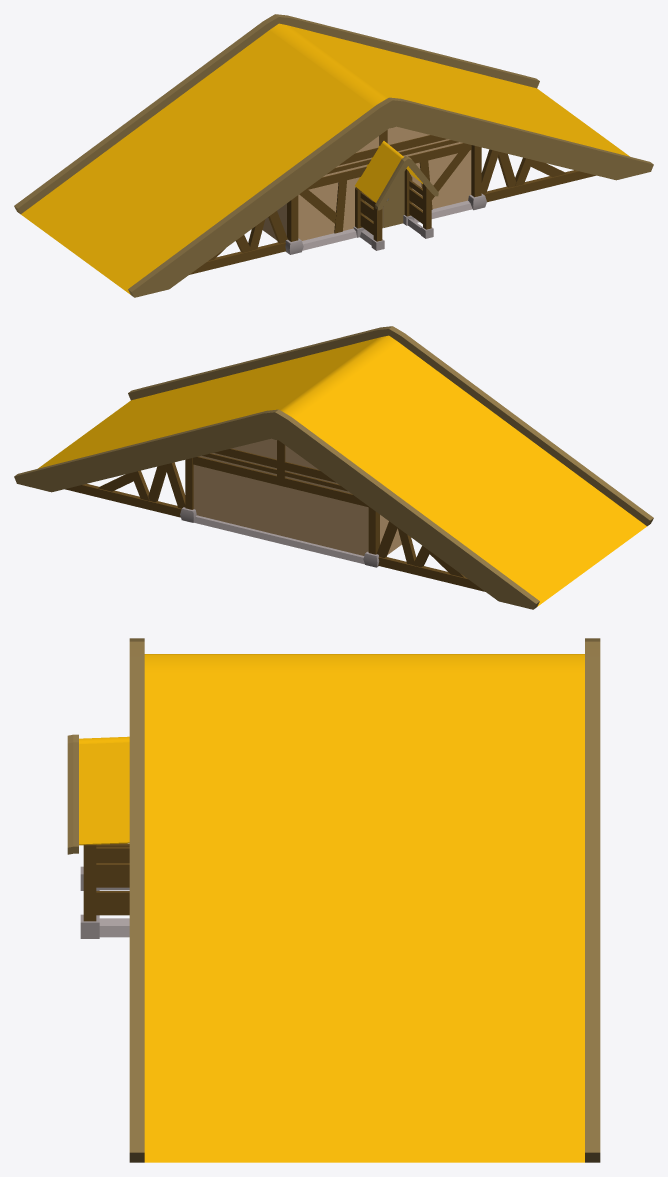
File: Modular_Houses_Ramp_House_2.fbx
3 renders of one model, top to bottom at view 1: azimuth 30°, elevation 25°; view 2: azimuth 150°, elevation 25°; view 3: azimuth 270°, elevation 25°, orthographic. The views are drawn at different scales.
Visible parts, largest first — view 1: Ramp_House_2; view 2: Ramp_House_2; view 3: Ramp_House_2.
Boxes of the visible parts, x1,y1,x2,y2 form: Ramp_House_2: (14, 14, 653, 297); Ramp_House_2: (14, 326, 653, 609); Ramp_House_2: (67, 638, 600, 1162).
Size of the model in its own units: 22.97 by 5.66 by 10.15.
1 material, 1 textured.
